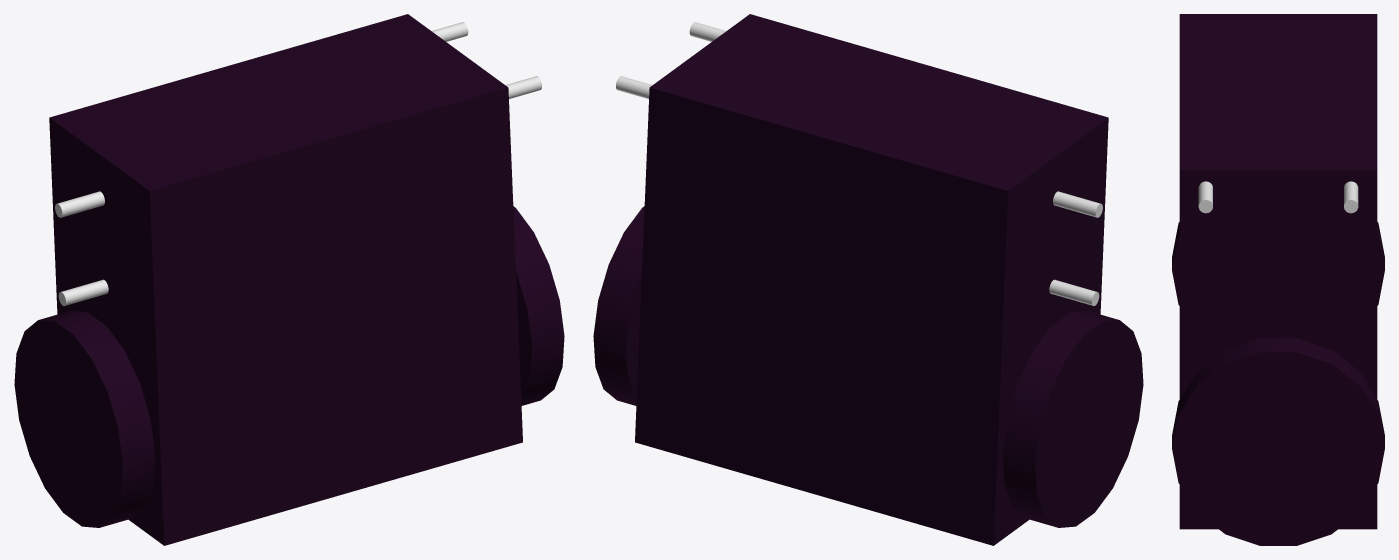
Rendered from leg-6.FBX.
The picture shows the model from 3 angles, left to right: view 1: azimuth 30°, elevation 25°; view 2: azimuth 150°, elevation 25°; view 3: azimuth 270°, elevation 25°; orthographic projection.
Visible parts, largest first — view 1: Box052, Cylinder083, Cylinder084, Cylinder087; view 2: Box052, Cylinder083, Cylinder084, Cylinder087; view 3: Box052, Cylinder083, Cylinder085, Cylinder088.
Part boxes in pixels (left/top/right/bottom): Box052: left=49, top=14, right=522, bottom=545; Cylinder083: left=14, top=206, right=564, bottom=527; Cylinder084: left=58, top=279, right=108, bottom=305; Cylinder087: left=55, top=191, right=104, bottom=217; Box052: left=635, top=14, right=1108, bottom=545; Cylinder083: left=593, top=206, right=1143, bottom=527; Cylinder084: left=1049, top=279, right=1099, bottom=305; Cylinder087: left=1053, top=191, right=1102, bottom=217; Box052: left=1179, top=14, right=1377, bottom=529; Cylinder083: left=1172, top=222, right=1384, bottom=545; Cylinder085: left=1198, top=181, right=1212, bottom=213; Cylinder088: left=1344, top=181, right=1358, bottom=213.
Size of the model in its own units: 2.1 by 1.65 by 0.8661.
